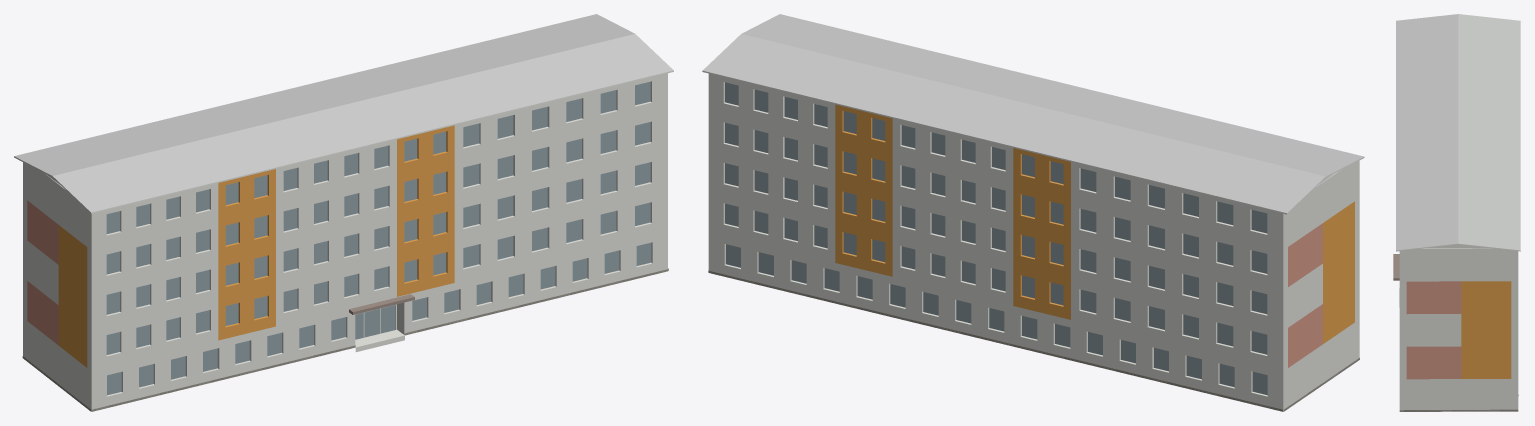
The picture shows the model from 3 angles, left to right: view 1: azimuth 30°, elevation 25°; view 2: azimuth 150°, elevation 25°; view 3: azimuth 270°, elevation 25°; orthographic projection. The views are drawn at different scales.
Visible parts, largest first — view 1: osm136961801__wall, osm136961801__roofAccent, osm136961801__glass, osm136961801__wall2, osm136961801__accent, osm136961801__base, osm136961801__trim, osm136961801__entranceThreshold_0; view 2: osm136961801__wall, osm136961801__roofAccent, osm136961801__glass, osm136961801__wall2, osm136961801__accent, osm136961801__base, osm136961801__trim; view 3: osm136961801__roofAccent, osm136961801__wall, osm136961801__wall2, osm136961801__accent, osm136961801__base, osm136961801__trim, osm136961801__canopy.
Boxes of the visible parts, left/top/right/bottom form: osm136961801__wall: left=23, top=73, right=667, bottom=411; osm136961801__roofAccent: left=14, top=14, right=673, bottom=212; osm136961801__glass: left=106, top=81, right=651, bottom=395; osm136961801__wall2: left=58, top=125, right=454, bottom=367; osm136961801__accent: left=27, top=200, right=58, bottom=345; osm136961801__base: left=22, top=268, right=668, bottom=411; osm136961801__trim: left=14, top=70, right=673, bottom=213; osm136961801__entranceThreshold_0: left=355, top=329, right=404, bottom=351; osm136961801__wall: left=708, top=73, right=1359, bottom=411; osm136961801__roofAccent: left=703, top=14, right=1363, bottom=212; osm136961801__glass: left=725, top=82, right=1267, bottom=395; osm136961801__wall2: left=835, top=104, right=1354, bottom=343; osm136961801__accent: left=1288, top=223, right=1322, bottom=367; osm136961801__base: left=708, top=270, right=1359, bottom=411; osm136961801__trim: left=702, top=70, right=1364, bottom=214; osm136961801__roofAccent: left=1396, top=14, right=1520, bottom=250; osm136961801__wall: left=1399, top=245, right=1518, bottom=410; osm136961801__wall2: left=1461, top=281, right=1511, bottom=378; osm136961801__accent: left=1406, top=281, right=1461, bottom=379; osm136961801__base: left=1399, top=395, right=1518, bottom=411; osm136961801__trim: left=1396, top=243, right=1520, bottom=251; osm136961801__canopy: left=1393, top=254, right=1399, bottom=280.
Size of the model in its own units: 54.5 by 19.15 by 12.78.
12 materials, 1 textured.
